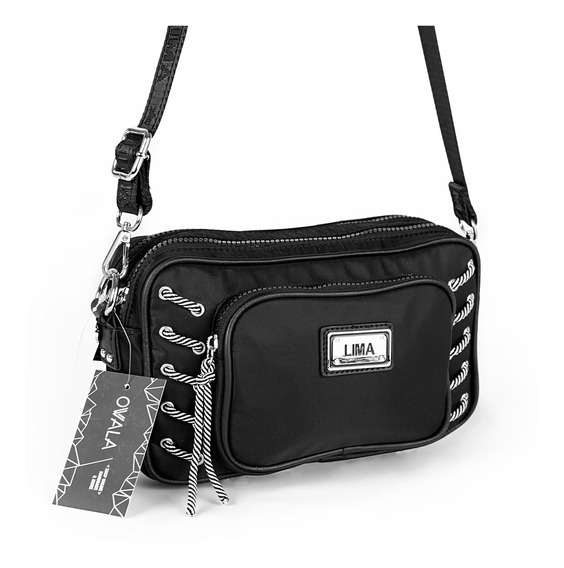cartera: (91, 20, 483, 487)
